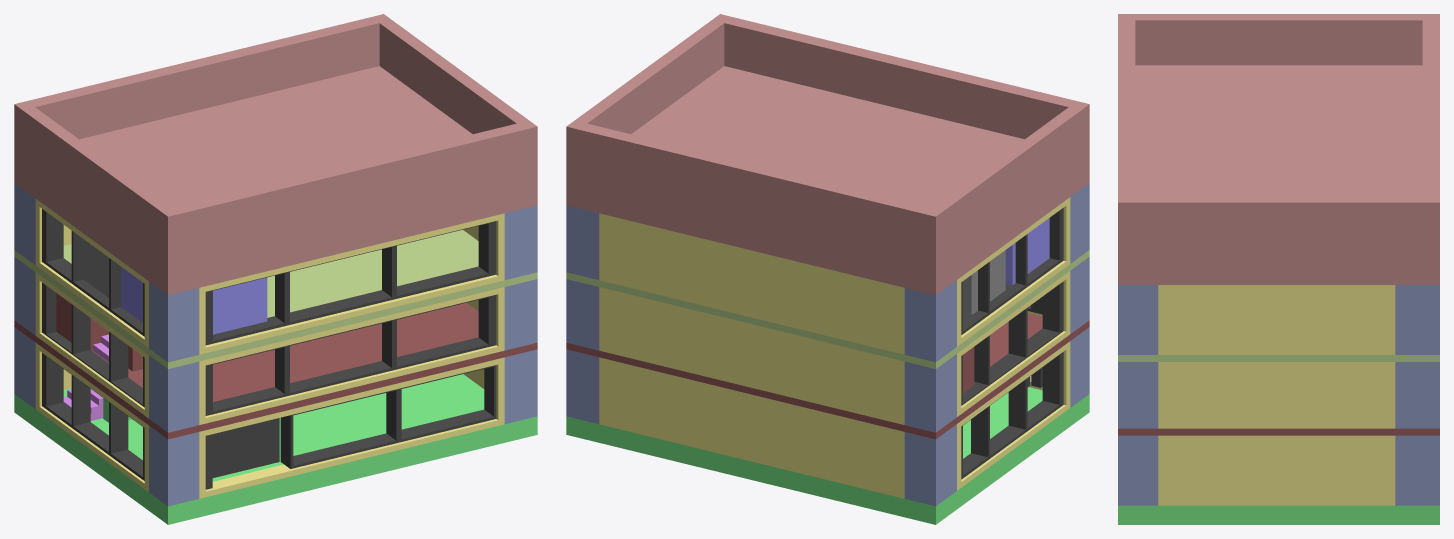
File: GameRoomver01.fbx
3 views of the same model, side by side, from view 1: azimuth 30°, elevation 25°; view 2: azimuth 150°, elevation 25°; view 3: azimuth 270°, elevation 25° (orthographic). The views are drawn at different scales.
Visible parts, largest first — view 1: Top, OuterWall, FloorGide2, Floor, FoorGround001, FoorGround, 2stScreenSide02, 3stScreenSide02, 1stScreenSide2, 1stScreenSide01, 2stScreenSide01, 3stScreenSide002 (+3 smaller); view 2: Top, OuterWall, FloorGide2, Floor, FoorGround001, 1stScreenSide01, FoorGround, 2stScreenSide01, 3stScreenSide002, 관리실, 2층계단벽; view 3: Top, OuterWall, FloorGide2, Floor, FoorGround001, FoorGround.
Boxes of the visible parts, x1,y1,x2,y2 form: Top: (14, 14, 537, 295); OuterWall: (35, 199, 504, 498); FloorGide2: (14, 183, 537, 506); Floor: (14, 374, 537, 524); FoorGround001: (14, 293, 537, 439); FoorGround: (14, 229, 537, 368); 2stScreenSide02: (205, 295, 496, 415); 3stScreenSide02: (205, 221, 496, 345); 1stScreenSide2: (205, 365, 496, 489); 1stScreenSide01: (42, 353, 144, 480); 2stScreenSide01: (42, 282, 144, 407); 3stScreenSide002: (42, 209, 144, 336); Top: (566, 14, 1089, 295); OuterWall: (599, 197, 1070, 498); FloorGide2: (566, 183, 1089, 506); Floor: (566, 387, 1089, 524); FoorGround001: (566, 313, 1089, 439); 1stScreenSide01: (961, 352, 1063, 479); FoorGround: (566, 250, 1089, 368); 2stScreenSide01: (961, 281, 1063, 405); 3stScreenSide002: (961, 208, 1063, 334); 관리실: (1005, 218, 1049, 284); 2층계단벽: (963, 250, 1005, 314); Top: (1118, 14, 1439, 284); OuterWall: (1158, 285, 1395, 505); FloorGide2: (1118, 285, 1439, 505); Floor: (1118, 505, 1439, 524); FoorGround001: (1118, 428, 1439, 435); FoorGround: (1118, 355, 1439, 361).
Bounding box in the file's own units: 416 × 331 × 300.
